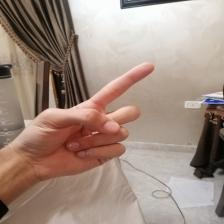one: (23, 60, 155, 172)
